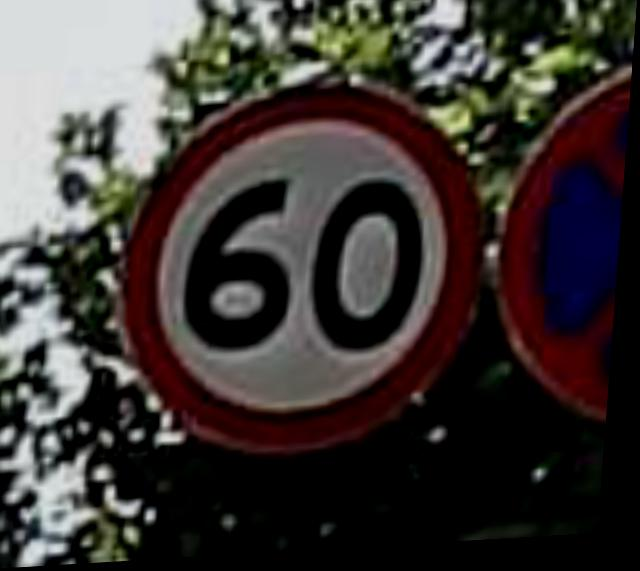limit60: (102, 58, 499, 473)
